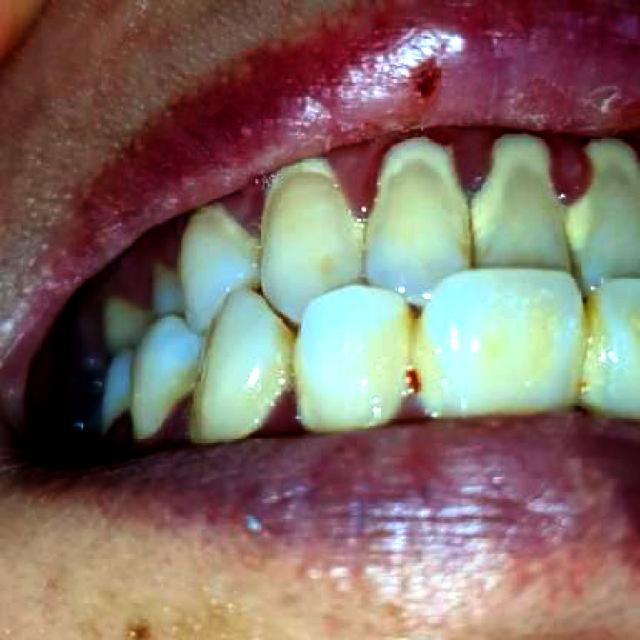Plaque: (326, 124, 639, 224), (100, 389, 199, 462), (120, 213, 188, 310), (213, 174, 270, 242), (243, 383, 307, 436), (382, 385, 435, 428), (400, 362, 424, 397), (574, 374, 594, 395)
